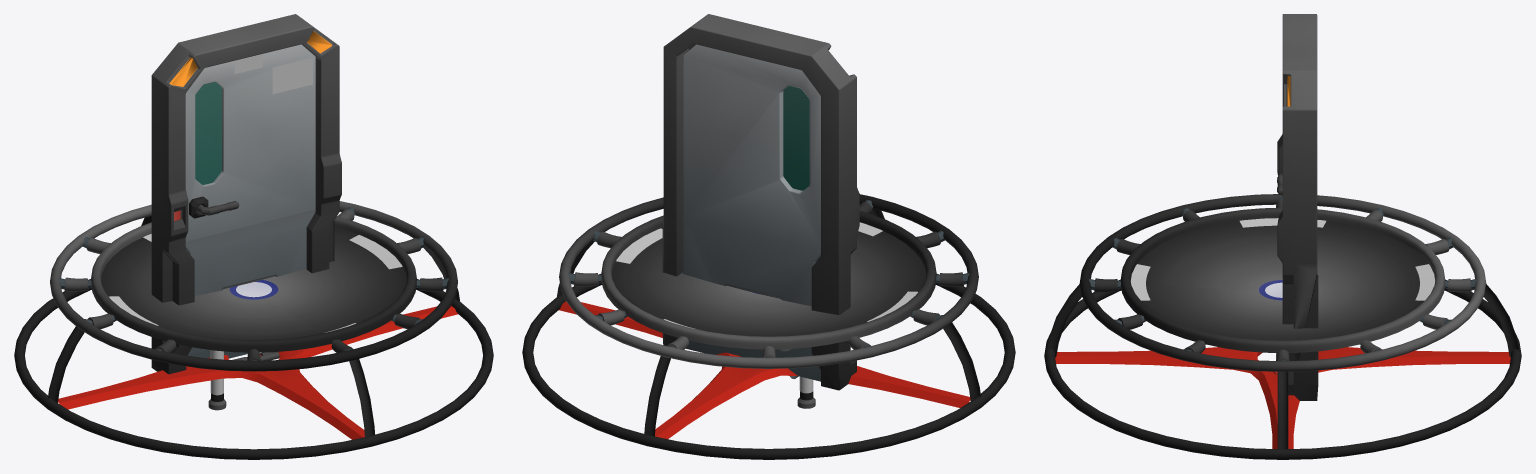
3 views of the same model, side by side, from view 1: azimuth 30°, elevation 25°; view 2: azimuth 150°, elevation 25°; view 3: azimuth 270°, elevation 25° (orthographic). The views are drawn at different scales.
Parts seen in each view (by area): view 1: Batut, Плоскость, Ramka, Lestnica_1; view 2: Batut, Плоскость, Ramka, Lestnica_1; view 3: Batut, Ramka.
Part boxes in pixels (x1=…): Batut: x1=14, y1=201, x2=493, y2=459; Плоскость: x1=185, y1=44, x2=315, y2=358; Ramka: x1=151, y1=14, x2=341, y2=374; Lestnica_1: x1=208, y1=350, x2=276, y2=410; Batut: x1=522, y1=194, x2=1015, y2=459; Плоскость: x1=683, y1=44, x2=820, y2=381; Ramka: x1=662, y1=14, x2=859, y2=390; Lestnica_1: x1=776, y1=349, x2=815, y2=408; Batut: x1=1044, y1=194, x2=1521, y2=459; Ramka: x1=1277, y1=14, x2=1318, y2=400.
Size of the model in its own units: 310 by 255 by 310.
